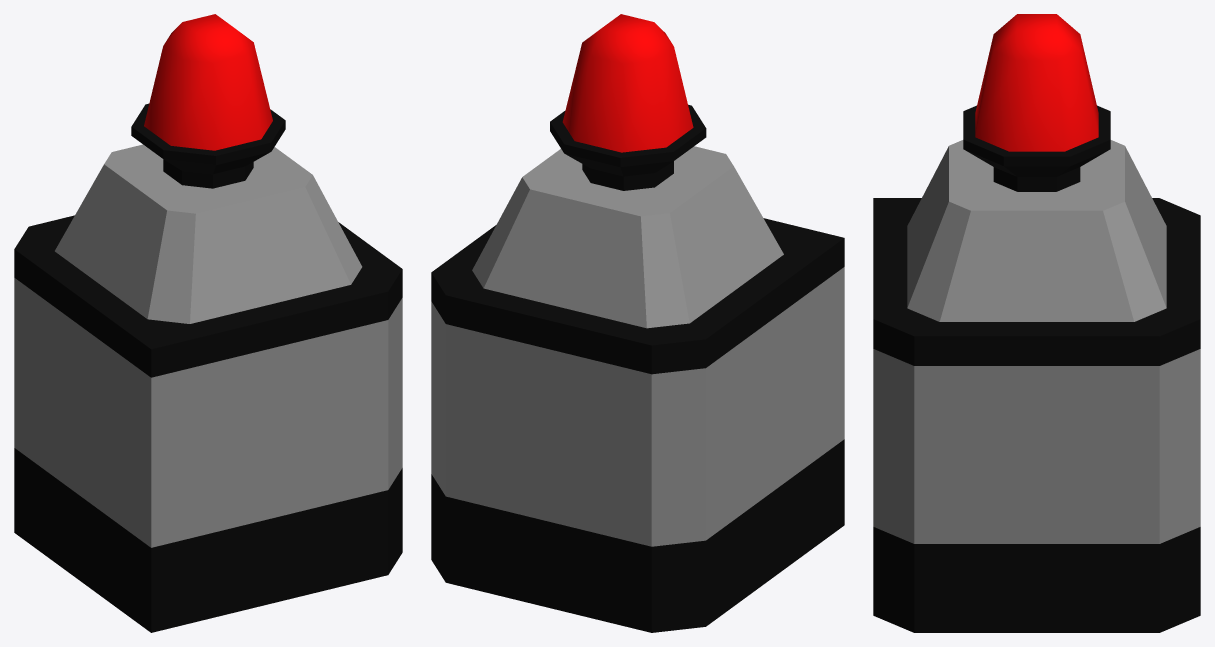
File: SM_LandingPadBeacon.FBX
3 renders of one model, left to right at view 1: azimuth 30°, elevation 25°; view 2: azimuth 150°, elevation 25°; view 3: azimuth 270°, elevation 25°, orthographic. The views are drawn at different scales.
Visible parts, largest first — view 1: Box001; view 2: Box001; view 3: Box001.
Boxes of the visible parts, x1=… form: Box001: x1=14, y1=14, x2=402, y2=632; Box001: x1=431, y1=14, x2=844, y2=632; Box001: x1=873, y1=14, x2=1200, y2=632.
Bounding box in the file's own units: 1000 × 1826 × 1000.
